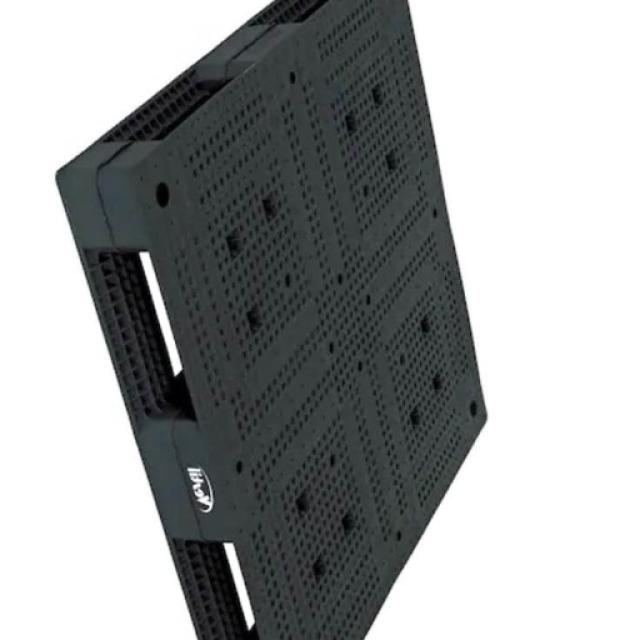non-igps: (53, 0, 491, 640)
